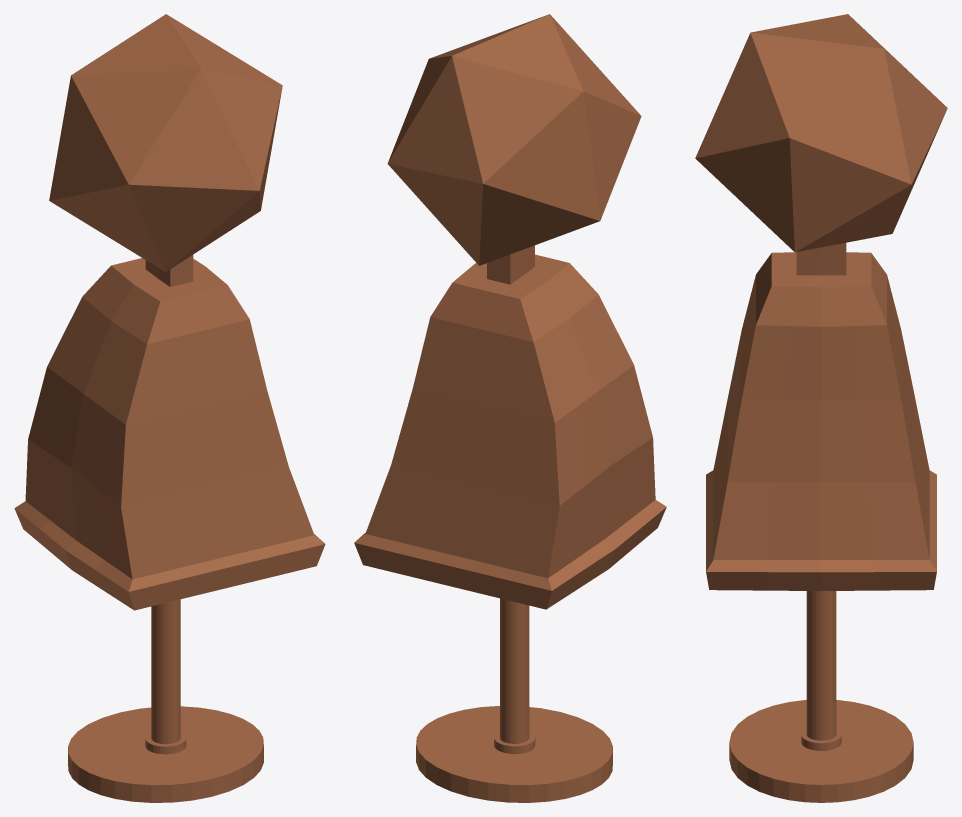
File: maniqui.fbx
The picture shows the model from 3 angles, left to right: view 1: azimuth 30°, elevation 25°; view 2: azimuth 150°, elevation 25°; view 3: azimuth 270°, elevation 25°; orthographic projection.
Visible parts, largest first — view 1: maniqui; view 2: maniqui; view 3: maniqui.
Boxes of the visible parts, <box> form: maniqui: <box>14,14,325,802</box>; maniqui: <box>354,14,666,802</box>; maniqui: <box>695,14,947,802</box>.
Bounding box in the file's own units: 71.4 × 234 × 73.77.
